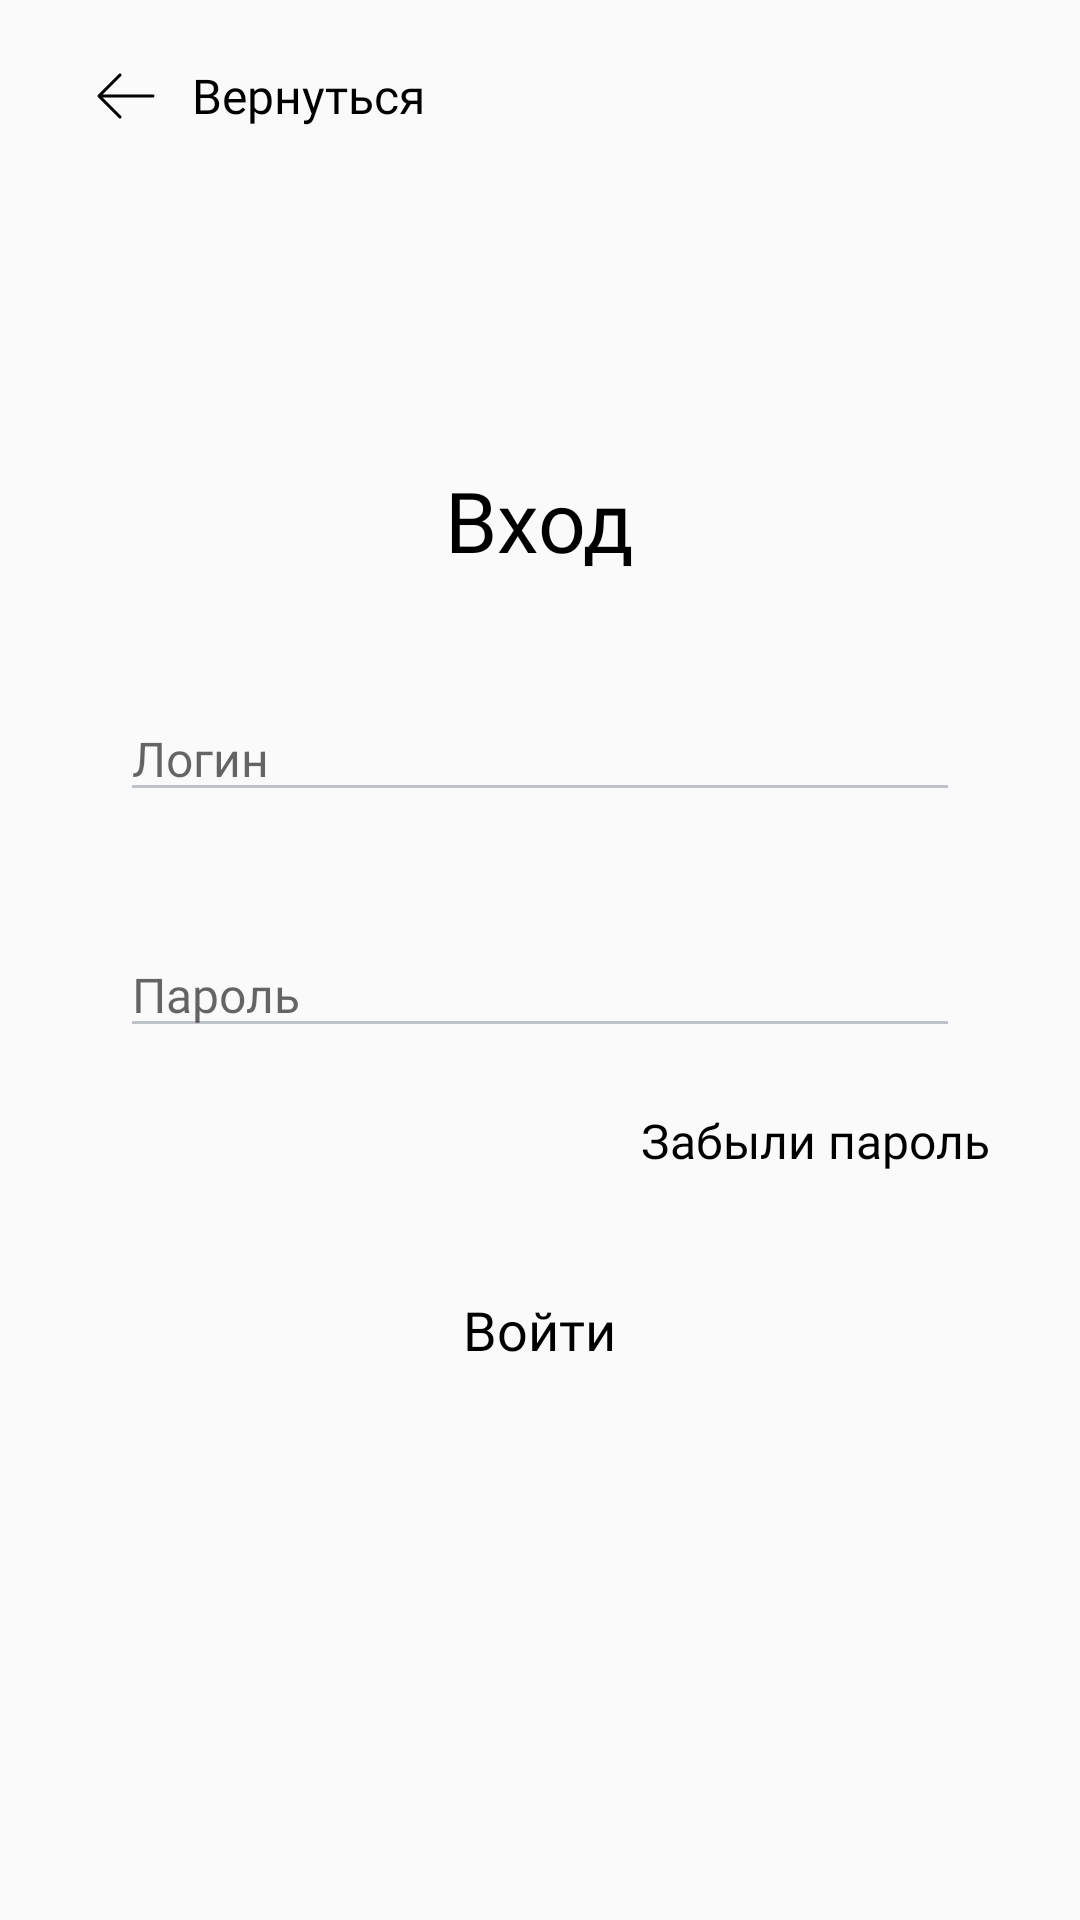

Where to tap for icons on this 1080×1920 app screen, as (x=x, y=y):
arrow left: (x=126, y=96)
